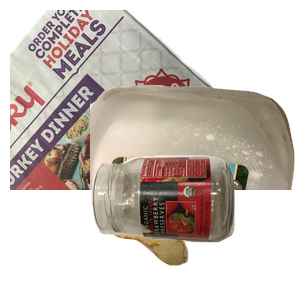glass: (89, 153, 300, 300)
paper: (10, 10, 247, 190)
plastic: (90, 82, 300, 262)
trash: (96, 181, 277, 300)
